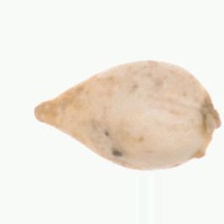L1: (199, 92, 222, 140), (32, 93, 60, 129)
L2: (34, 60, 221, 171)
